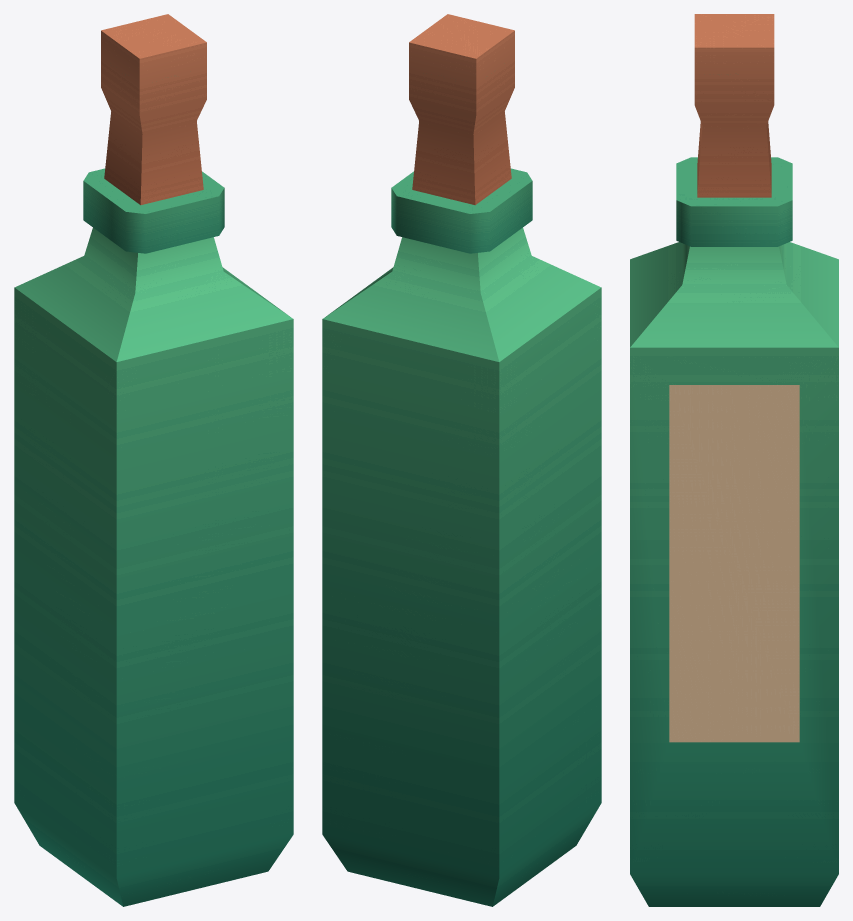
File: bottle-oil.glb
3 renders of one model, left to right at view 1: azimuth 30°, elevation 25°; view 2: azimuth 150°, elevation 25°; view 3: azimuth 270°, elevation 25°, orthographic. The views are drawn at different scales.
Visible parts, largest first — view 1: bottle-oil; view 2: bottle-oil; view 3: bottle-oil.
Boxes of the visible parts, x1=… form: bottle-oil: x1=14, y1=14, x2=293, y2=906; bottle-oil: x1=322, y1=14, x2=601, y2=906; bottle-oil: x1=630, y1=14, x2=838, y2=906.
Bounding box in the file's own units: 0.14 × 0.6218 × 0.14.
Materials: 1 (1 with a texture image).
